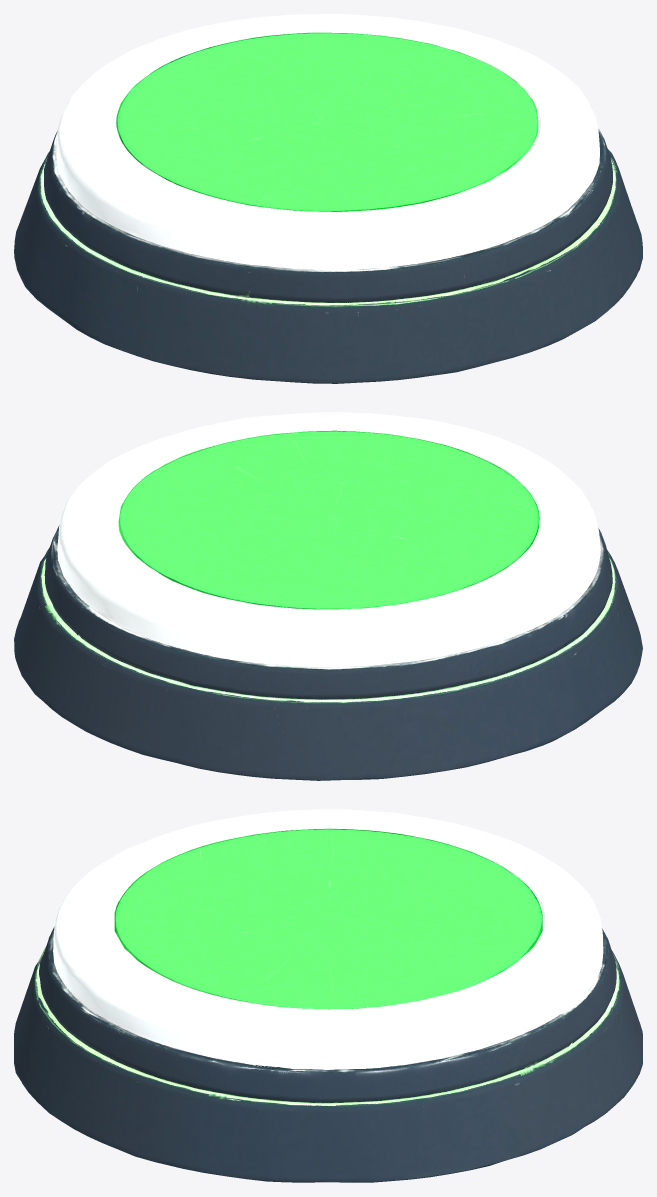
The model's file is arrival.glb.
The picture shows the model from 3 angles, top to bottom: view 1: azimuth 30°, elevation 25°; view 2: azimuth 150°, elevation 25°; view 3: azimuth 270°, elevation 25°; orthographic projection.
Parts seen in each view (by area): view 1: Meshy arrival beacon platform; view 2: Meshy arrival beacon platform; view 3: Meshy arrival beacon platform.
Boxes of the visible parts, x1,y1,x2,y2 form: Meshy arrival beacon platform: [14, 14, 642, 383]; Meshy arrival beacon platform: [14, 412, 642, 780]; Meshy arrival beacon platform: [14, 809, 642, 1182].
Bounding box in the file's own units: 3.19 × 0.7333 × 3.19.
1 material, 1 textured.
